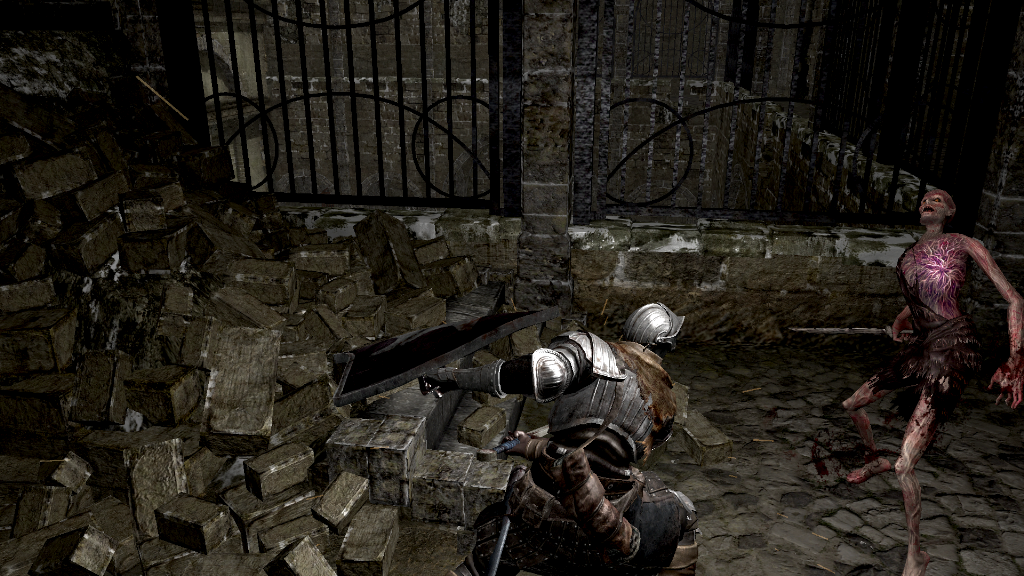hollow: (845, 189, 1023, 576)
player: (329, 300, 700, 576)
